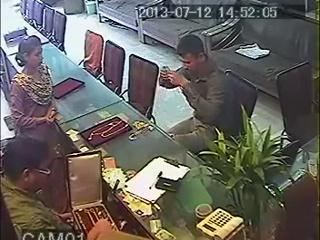Normal: (184, 105, 313, 240), (0, 136, 150, 240), (158, 33, 232, 153), (9, 35, 81, 158), (66, 152, 120, 240)
